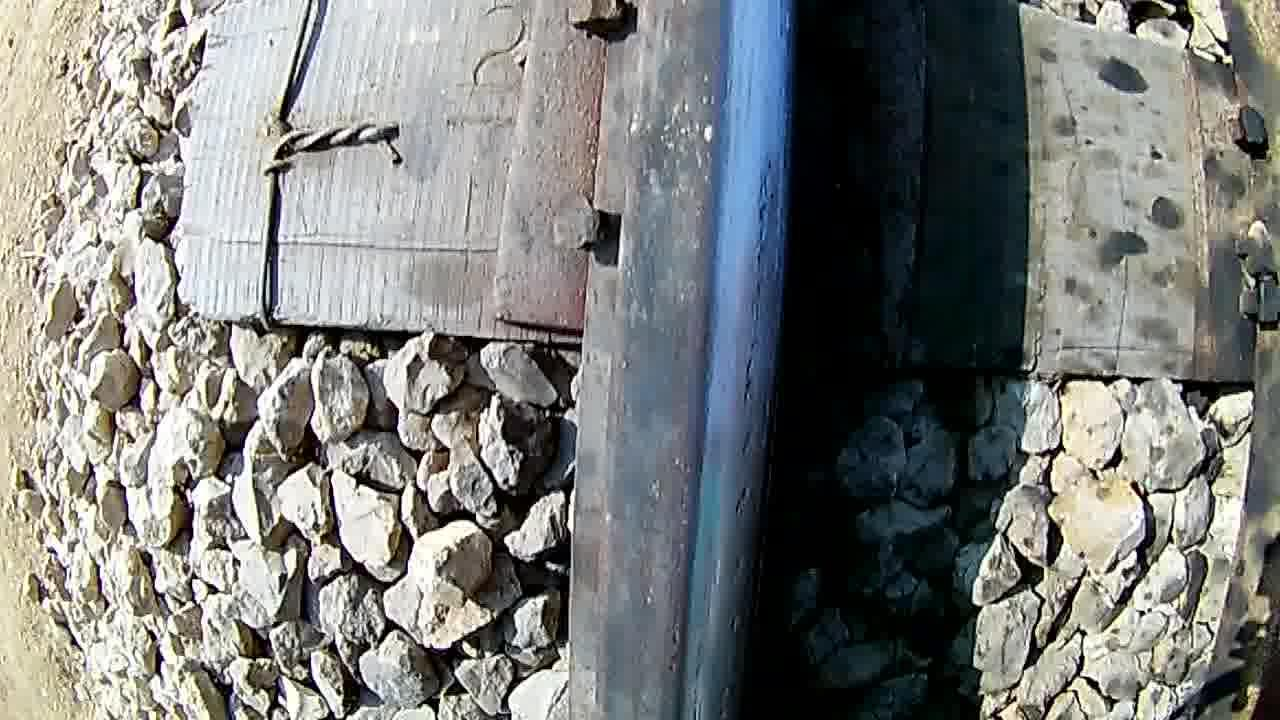crack: (611, 1, 791, 720)
